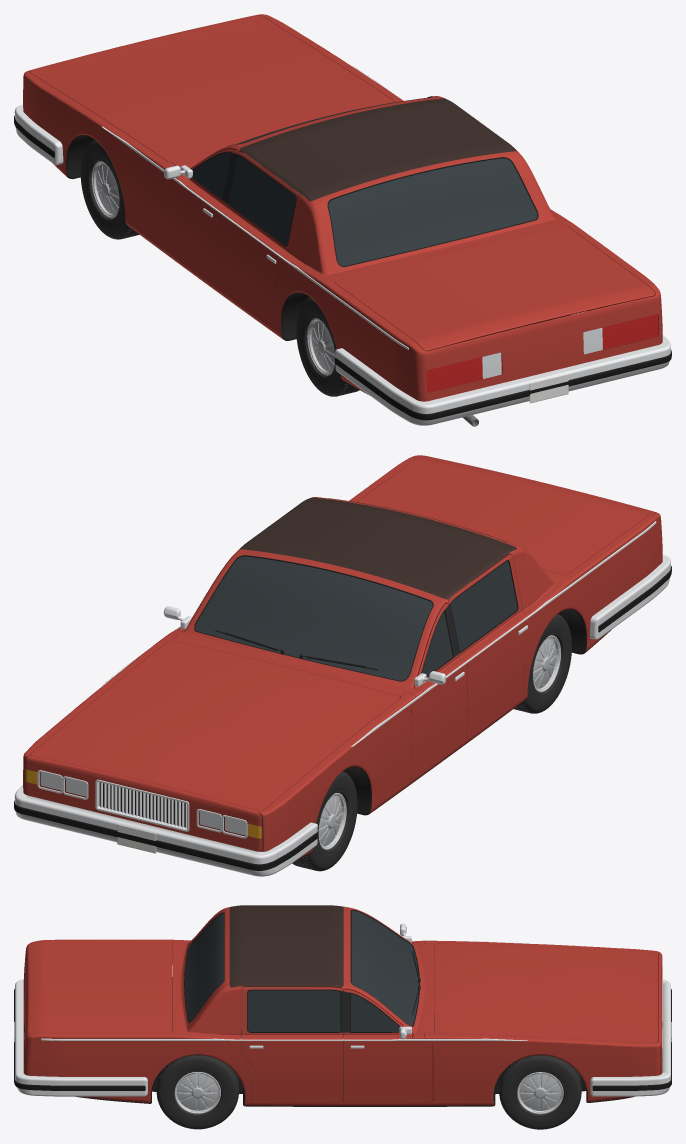
File: brougham.glb
3 renders of one model, top to bottom at view 1: azimuth 30°, elevation 25°; view 2: azimuth 150°, elevation 25°; view 3: azimuth 270°, elevation 25°, orthographic. The views are drawn at different scales.
Visible parts, largest first — view 1: Body, Hood, Trunk, Glass_Rear, Fender_FL, Bumper_R, Door_RL, Door_FL, Glass_RL, Bumper_R_Strip, Wheel_FL_Tyre, Wheel_RL_Tyre (+9 smaller); view 2: Body, Hood, Glass_Front, Trunk, Fender_FL, Door_RL, Bumper_F, Door_FL, Glass_RL, Grille, Bumper_F_Strip, Wheel_FL_Tyre (+11 smaller); view 3: Body, Hood, Trunk, Fender_FR, Door_RR, Door_FR, Glass_Front, Glass_RR, Wheel_FR_Tyre, Wheel_RR_Tyre, Glass_Rear, Bumper_R (+10 smaller).
Part boxes in pixels (bbox=[...]): Body: bbox=[29, 14, 662, 401]; Hood: bbox=[30, 15, 395, 162]; Trunk: bbox=[335, 225, 655, 351]; Glass_Rear: bbox=[327, 157, 538, 266]; Fender_FL: bbox=[23, 70, 175, 245]; Bumper_R: bbox=[335, 309, 670, 425]; Door_RL: bbox=[217, 151, 301, 329]; Door_FL: bbox=[161, 149, 236, 287]; Glass_RL: bbox=[228, 154, 296, 246]; Bumper_R_Strip: bbox=[335, 350, 671, 420]; Wheel_FL_Tyre: bbox=[80, 139, 139, 239]; Wheel_RL_Tyre: bbox=[296, 297, 359, 396]; Body: bbox=[24, 455, 662, 860]; Hood: bbox=[30, 641, 400, 811]; Glass_Front: bbox=[194, 555, 433, 681]; Trunk: bbox=[357, 455, 655, 575]; Fender_FL: bbox=[259, 692, 415, 859]; Door_RL: bbox=[448, 554, 531, 738]; Bumper_F: bbox=[14, 785, 317, 876]; Door_FL: bbox=[410, 603, 467, 779]; Glass_RL: bbox=[450, 560, 518, 652]; Grille: bbox=[95, 779, 189, 831]; Bumper_F_Strip: bbox=[14, 800, 318, 870]; Wheel_FL_Tyre: bbox=[292, 771, 357, 871]; Body: bbox=[23, 905, 662, 1106]; Hood: bbox=[434, 943, 658, 1042]; Trunk: bbox=[28, 942, 172, 1034]; Fender_FR: bbox=[424, 1033, 660, 1100]; Door_RR: bbox=[241, 987, 343, 1101]; Door_FR: bbox=[343, 989, 432, 1101]; Glass_Front: bbox=[350, 909, 419, 1026]; Glass_RR: bbox=[247, 989, 341, 1032]; Wheel_FR_Tyre: bbox=[499, 1055, 581, 1129]; Wheel_RR_Tyre: bbox=[156, 1055, 238, 1129]; Glass_Rear: bbox=[184, 912, 224, 1022]; Bumper_R: bbox=[15, 979, 147, 1096].
Bounding box in the file's own units: 2.22 × 1.4 × 5.67.
